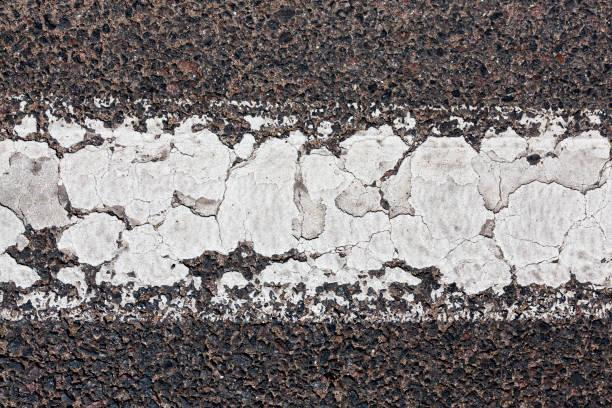faded_road_lines: (0, 85, 612, 337)
